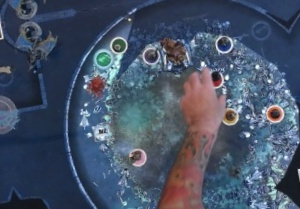blue: (211, 32, 235, 56)
green: (108, 32, 130, 55)
orange: (263, 97, 288, 124)
pink: (127, 143, 152, 168)
red: (206, 66, 230, 91)
violet: (139, 41, 165, 67)
yellow: (218, 104, 243, 128)
